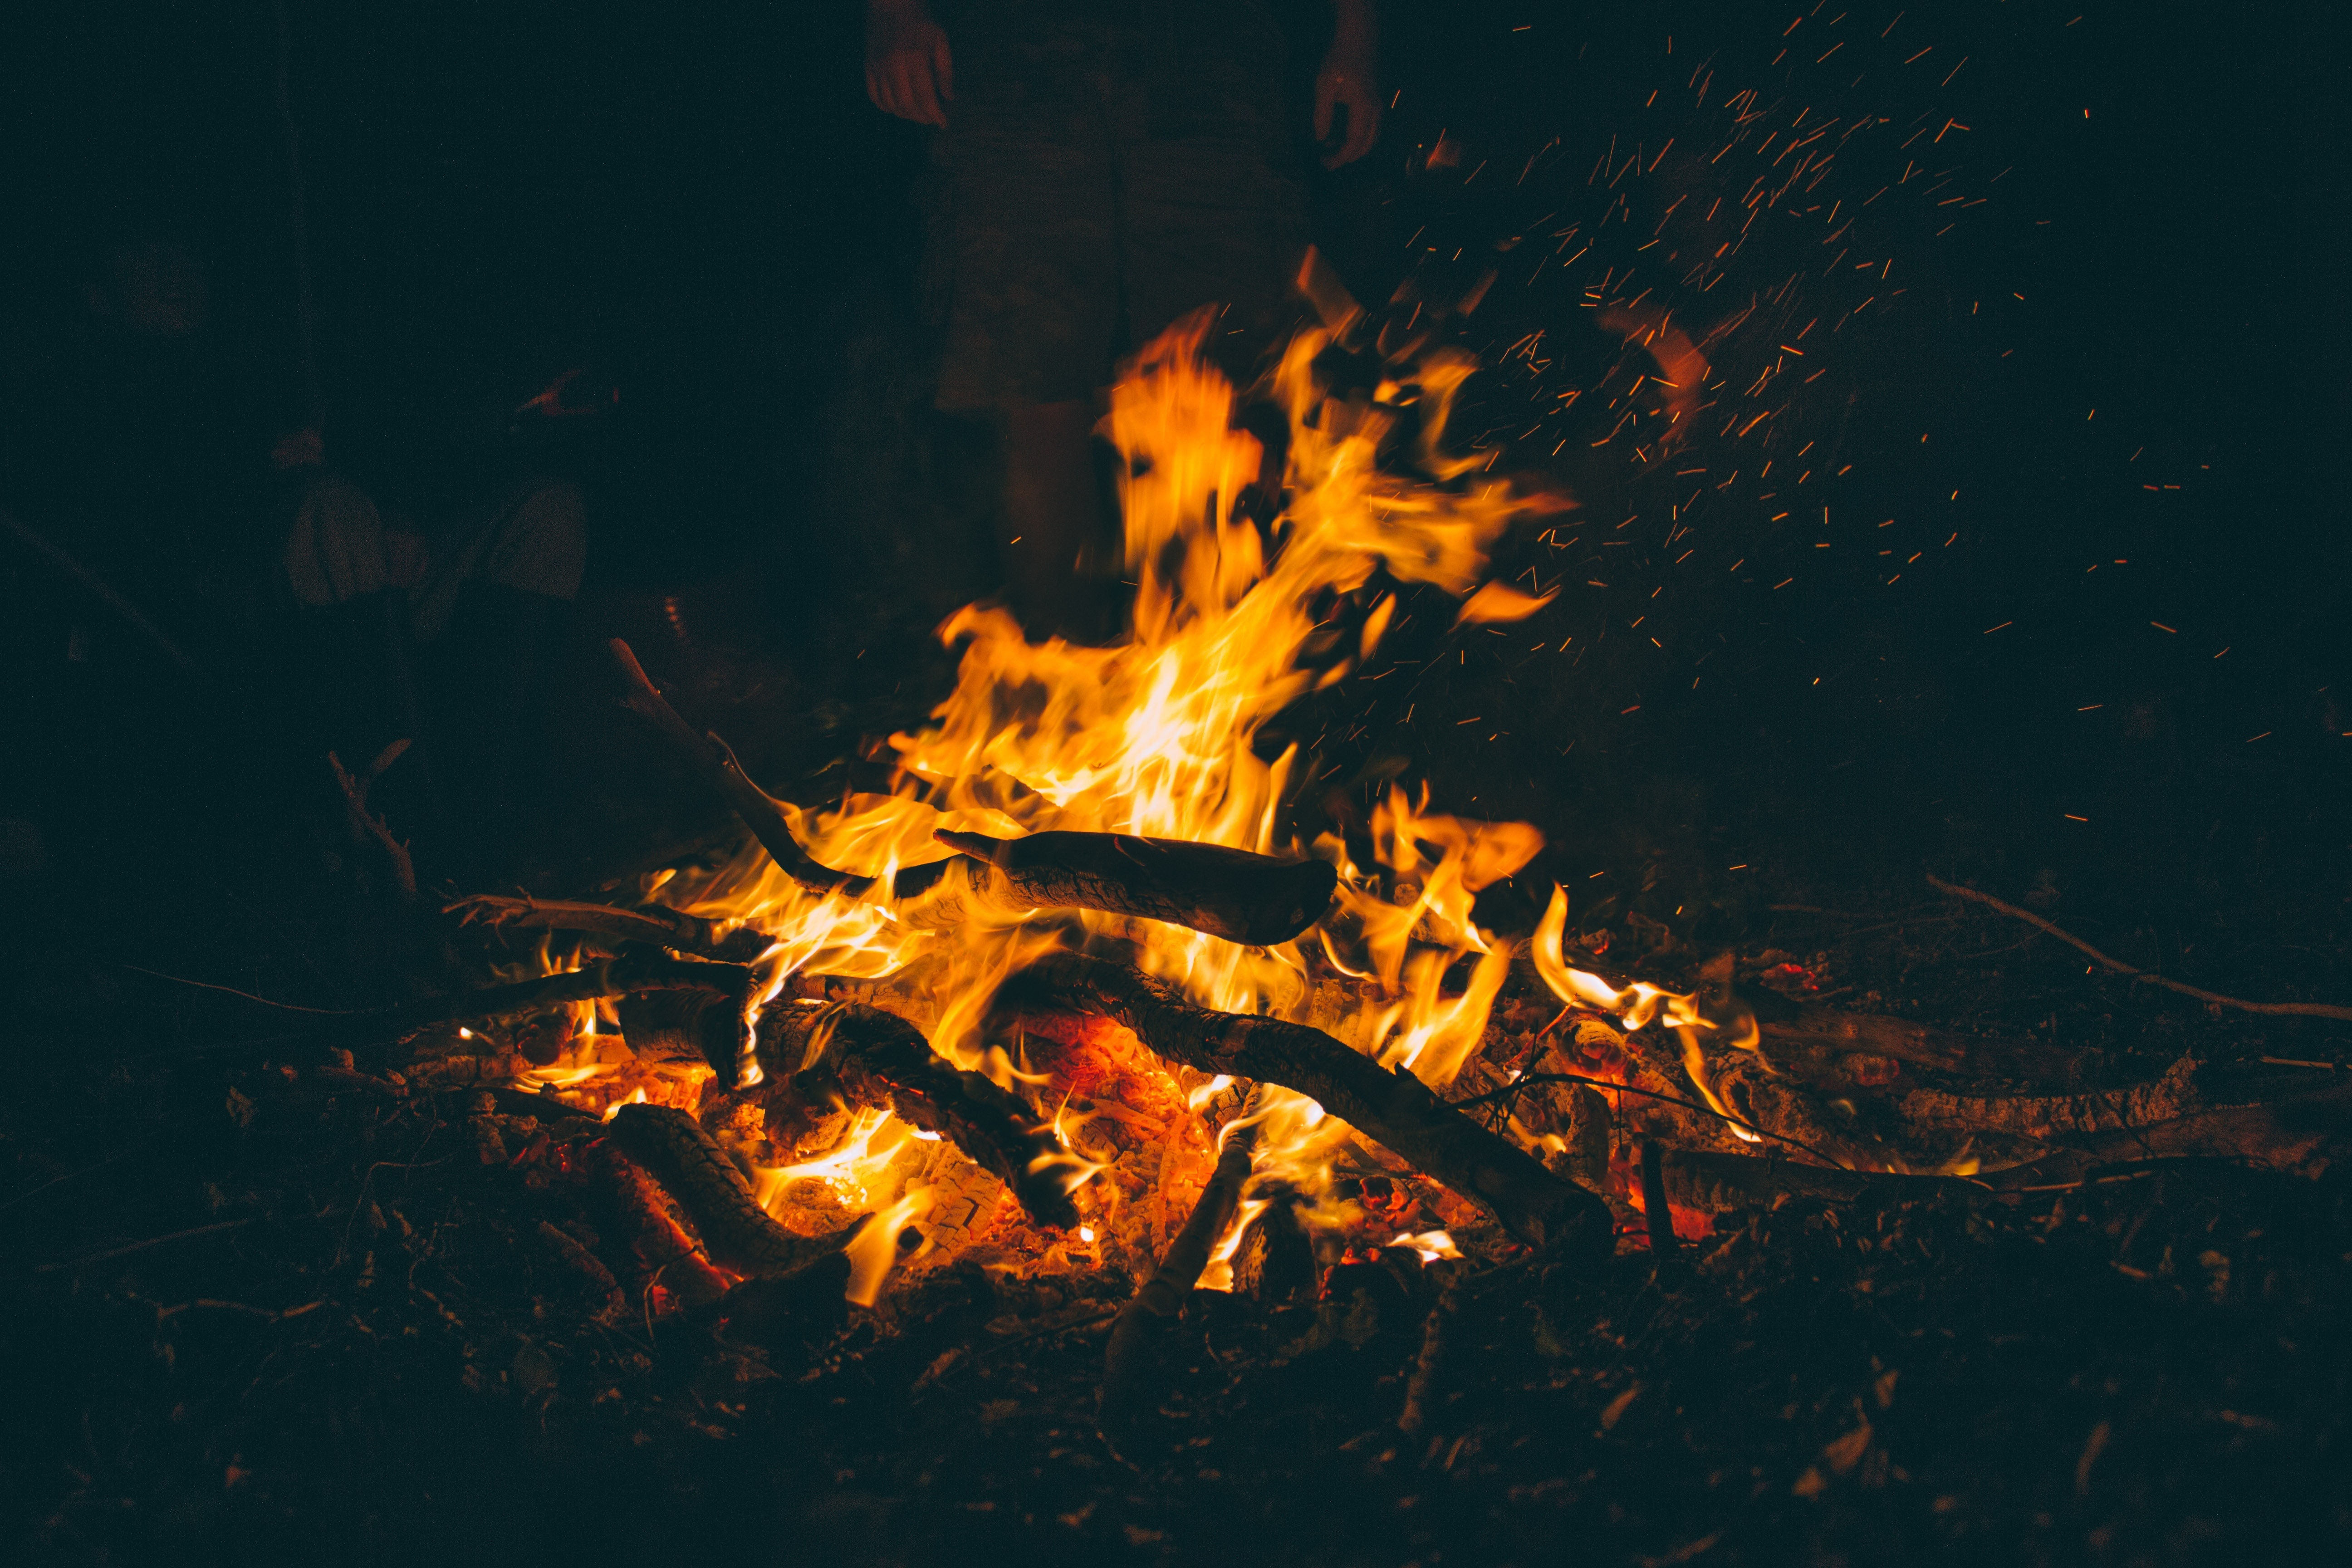fire: (574, 255, 1855, 1353)
